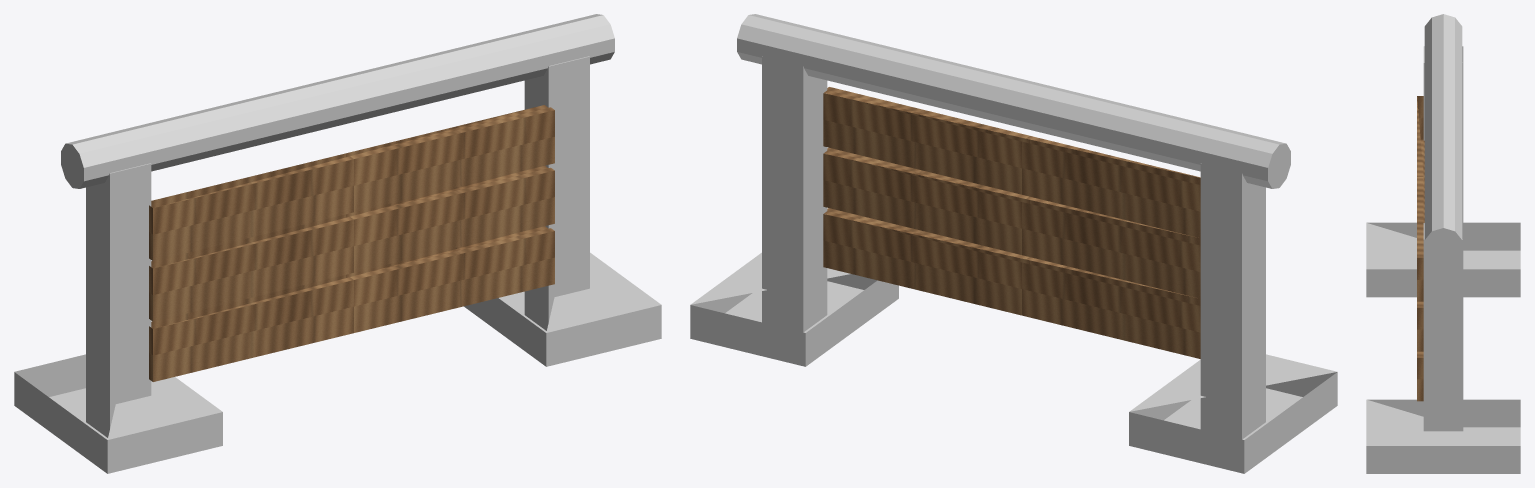
Rendered from Cover_Western_Wooden.fbx.
3 renders of one model, left to right at view 1: azimuth 30°, elevation 25°; view 2: azimuth 150°, elevation 25°; view 3: azimuth 270°, elevation 25°, orthographic. The views are drawn at different scales.
Visible parts, largest first — view 1: Cover_Western_Wooden, Cover_Western_Wooden_TopLog, Cover_Western_Wooden_Post_L, Cover_Western_Wooden_Foot_L, Cover_Western_Wooden_Foot_R, Cover_Western_Wooden_Post_R; view 2: Cover_Western_Wooden, Cover_Western_Wooden_TopLog, Cover_Western_Wooden_Post_L, Cover_Western_Wooden_Post_R, Cover_Western_Wooden_Foot_L, Cover_Western_Wooden_Foot_R; view 3: Cover_Western_Wooden_Foot_R, Cover_Western_Wooden_TopLog, Cover_Western_Wooden_Foot_L, Cover_Western_Wooden_Post_R, Cover_Western_Wooden, Cover_Western_Wooden_Post_L.
Boxes of the visible parts, x1=… form: Cover_Western_Wooden: x1=149, y1=105, x2=554, y2=381; Cover_Western_Wooden_TopLog: x1=61, y1=14, x2=614, y2=188; Cover_Western_Wooden_Post_L: x1=86, y1=163, x2=151, y2=437; Cover_Western_Wooden_Foot_L: x1=14, y1=354, x2=222, y2=473; Cover_Western_Wooden_Foot_R: x1=464, y1=252, x2=661, y2=366; Cover_Western_Wooden_Post_R: x1=524, y1=56, x2=589, y2=330; Cover_Western_Wooden: x1=823, y1=87, x2=1200, y2=358; Cover_Western_Wooden_TopLog: x1=737, y1=14, x2=1290, y2=188; Cover_Western_Wooden_Post_L: x1=1200, y1=163, x2=1265, y2=439; Cover_Western_Wooden_Post_R: x1=762, y1=56, x2=827, y2=332; Cover_Western_Wooden_Foot_L: x1=1129, y1=354, x2=1337, y2=473; Cover_Western_Wooden_Foot_R: x1=690, y1=252, x2=898, y2=366; Cover_Western_Wooden_Foot_R: x1=1366, y1=399, x2=1520, y2=473; Cover_Western_Wooden_TopLog: x1=1424, y1=14, x2=1462, y2=263; Cover_Western_Wooden_Foot_L: x1=1366, y1=222, x2=1520, y2=297; Cover_Western_Wooden_Post_R: x1=1423, y1=223, x2=1463, y2=431; Cover_Western_Wooden: x1=1417, y1=96, x2=1424, y2=401; Cover_Western_Wooden_Post_L: x1=1423, y1=46, x2=1463, y2=222.
Size of the model in its own units: 2.4 by 1.21 by 0.7.
2 materials, 1 textured.
